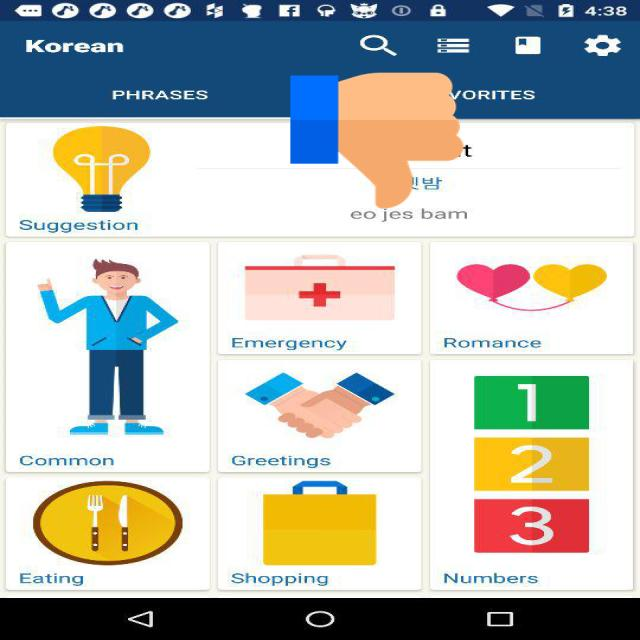obstruction: (291, 69, 464, 212)
